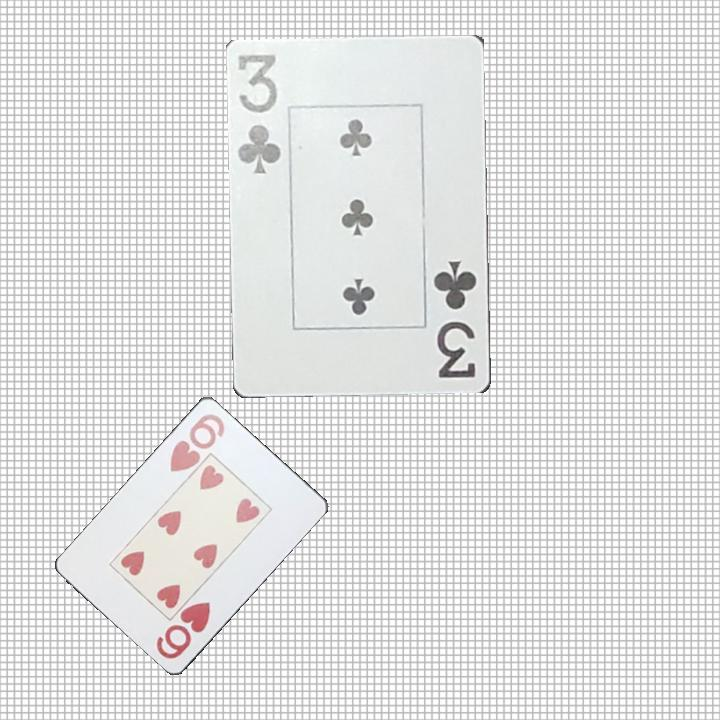3c: (234, 51, 285, 177), (430, 257, 480, 381)
6h: (166, 409, 228, 475), (152, 598, 213, 662)
